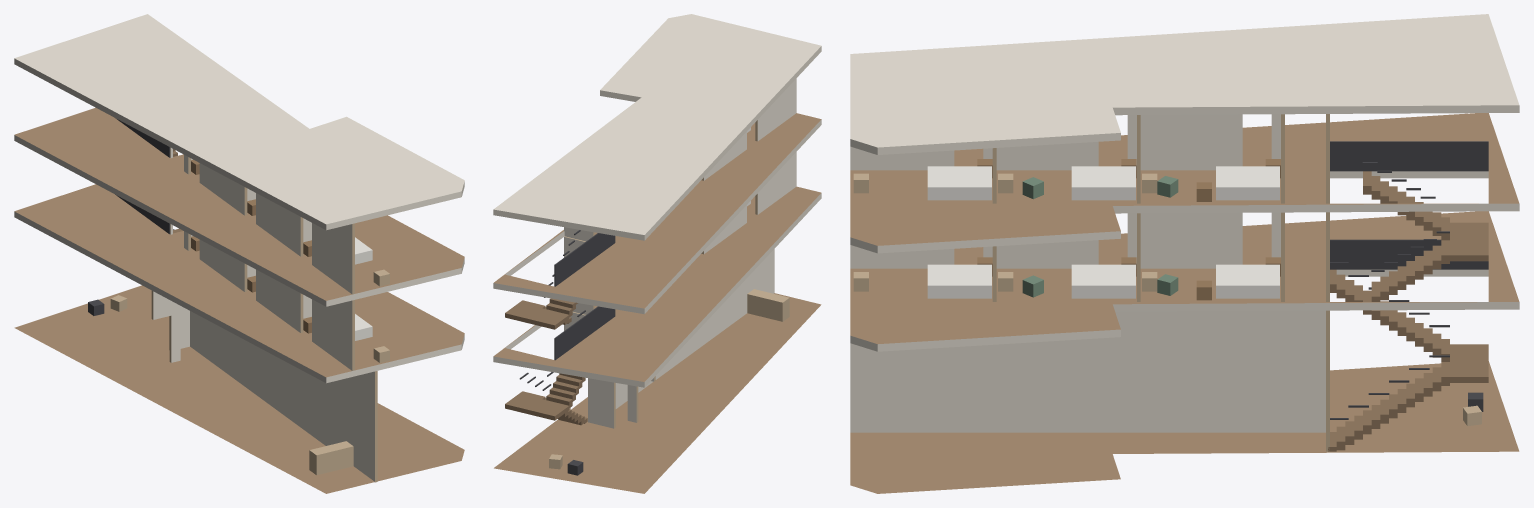
Rendered from interior.glb.
3 views of the same model, side by side, from view 1: azimuth 30°, elevation 25°; view 2: azimuth 150°, elevation 25°; view 3: azimuth 270°, elevation 25° (orthographic). The views are drawn at different scales.
Parts seen in each view (by area): view 1: slabs, partitions, coarse-s0, coarse-s1, coarse-s2, stair; view 2: slabs, partitions, stair, coarse-s0; view 3: slabs, partitions, stair, coarse-s2, coarse-s1.
Boxes of the visible parts, left/top/right/bottom form: slabs: left=14, top=14, right=464, bottom=493; partitions: left=151, top=147, right=377, bottom=482; coarse-s0: left=88, top=295, right=353, bottom=475; coarse-s1: left=191, top=236, right=389, bottom=362; coarse-s2: left=191, top=159, right=389, bottom=286; stair: left=115, top=118, right=182, bottom=234; slabs: left=493, top=14, right=821, bottom=493; partitions: left=564, top=78, right=796, bottom=428; stair: left=505, top=230, right=615, bottom=425; coarse-s0: left=549, top=289, right=789, bottom=475; slabs: left=850, top=14, right=1519, bottom=493; partitions: left=850, top=114, right=1329, bottom=451; stair: left=1328, top=141, right=1488, bottom=451; coarse-s2: left=853, top=159, right=1280, bottom=201; coarse-s1: left=853, top=257, right=1280, bottom=300.
Size of the model in its own units: 9.81 by 11.88 by 20.76.
